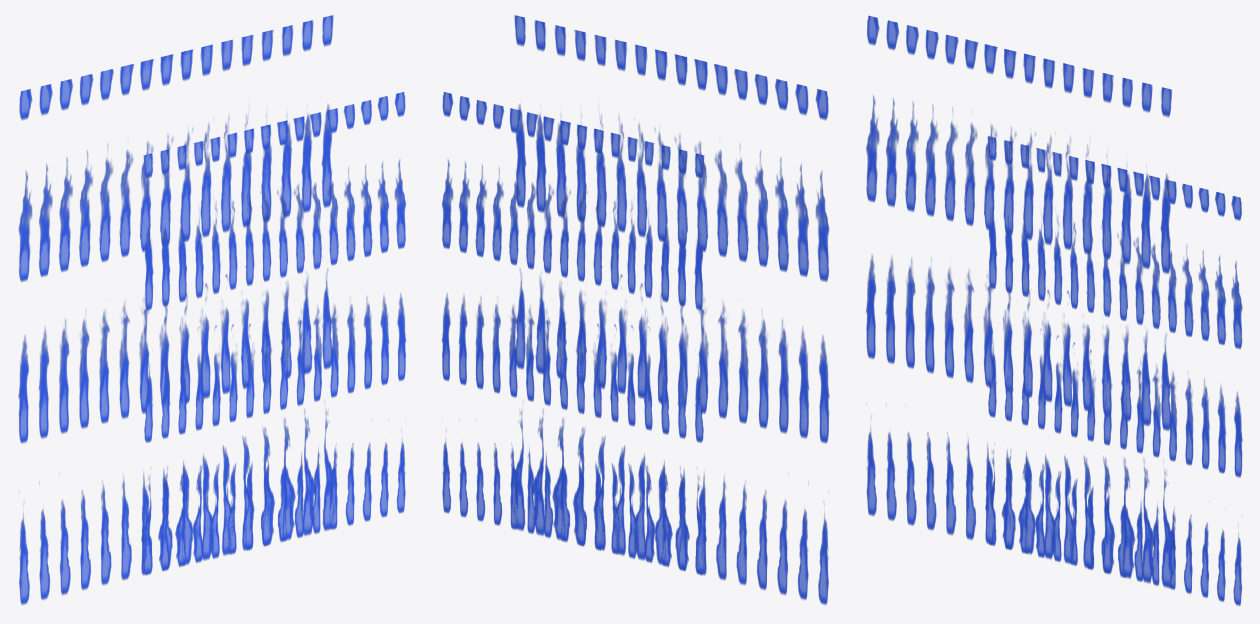
File: mm9_deco_pentafire_blue.glb
The picture shows the model from 3 angles, left to right: view 1: azimuth 30°, elevation 25°; view 2: azimuth 150°, elevation 25°; view 3: azimuth 330°, elevation 25°; orthographic projection. The views are drawn at different scales.
Parts seen in each view (by area): view 1: Pentafire_blue; view 2: Pentafire_blue; view 3: Pentafire_blue.
Boxes of the visible parts, box(x1,y1,x2,y2) form: Pentafire_blue: box(18, 15, 405, 604); Pentafire_blue: box(442, 15, 829, 604); Pentafire_blue: box(866, 15, 1242, 605).
Bounding box in the file's own units: 0.44 × 0.55 × 0.
1 material, 1 textured.
